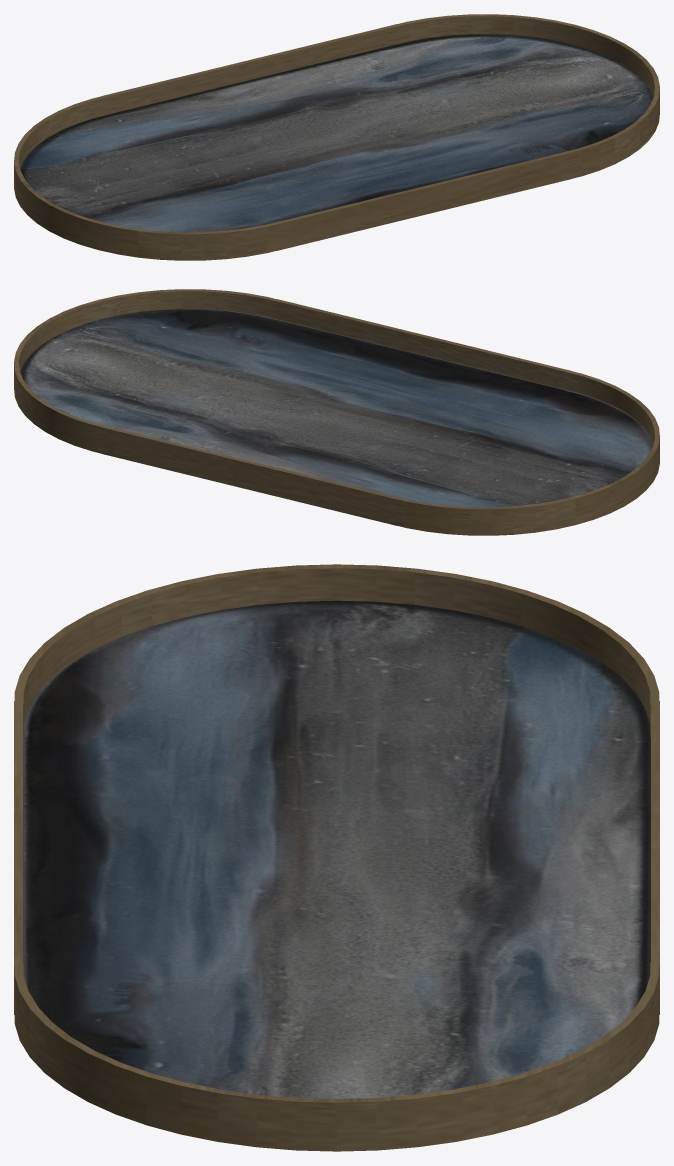
File: Graphite_OrganicGlassTray-Medium.glb
3 renders of one model, top to bottom at view 1: azimuth 30°, elevation 25°; view 2: azimuth 150°, elevation 25°; view 3: azimuth 270°, elevation 25°, orthographic. The views are drawn at different scales.
Visible parts, largest first — view 1: model 9; view 2: model 9; view 3: model 9.
Part boxes in pixels (box(x1,y1,x2,y2)): model 9: box(14, 14, 659, 260); model 9: box(14, 289, 659, 535); model 9: box(14, 564, 659, 1151).
Size of the model in its own units: 0.71 by 0.03 by 0.36.
2 materials, 2 textured.
